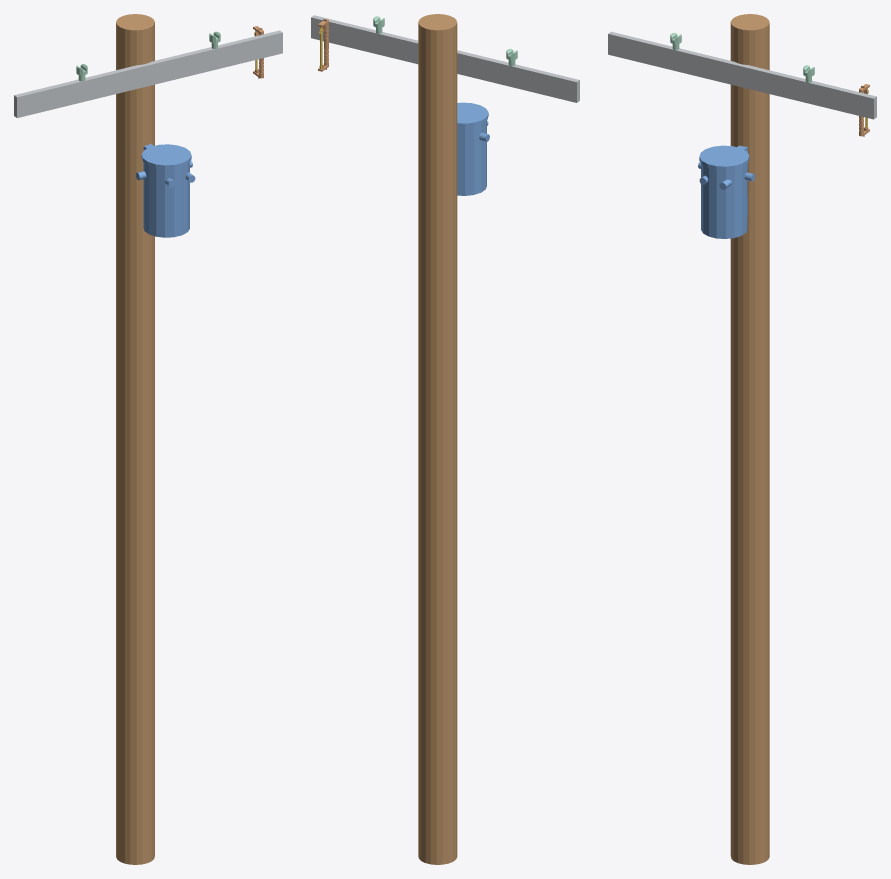
Rendered from DistributionPole.obj.
The picture shows the model from 3 angles, left to right: view 1: azimuth 30°, elevation 25°; view 2: azimuth 150°, elevation 25°; view 3: azimuth 330°, elevation 25°; orthographic projection.
Visible parts, largest first — view 1: WoodPoleD, Cross, Trans2; view 2: WoodPoleD, Cross, Trans2; view 3: WoodPoleD, Cross, Trans2.
Boxes of the visible parts, bbox=[...] form: WoodPoleD: bbox=[116, 14, 154, 864]; Cross: bbox=[14, 30, 282, 117]; Trans2: bbox=[136, 144, 195, 237]; WoodPoleD: bbox=[418, 14, 457, 864]; Cross: bbox=[311, 15, 579, 102]; Trans2: bbox=[457, 102, 489, 195]; WoodPoleD: bbox=[730, 14, 769, 864]; Cross: bbox=[608, 31, 876, 119]; Trans2: bbox=[698, 145, 754, 238].
Size of the model in its own units: 3 by 9 by 1.01.
Materials: 1 (1 with a texture image).
